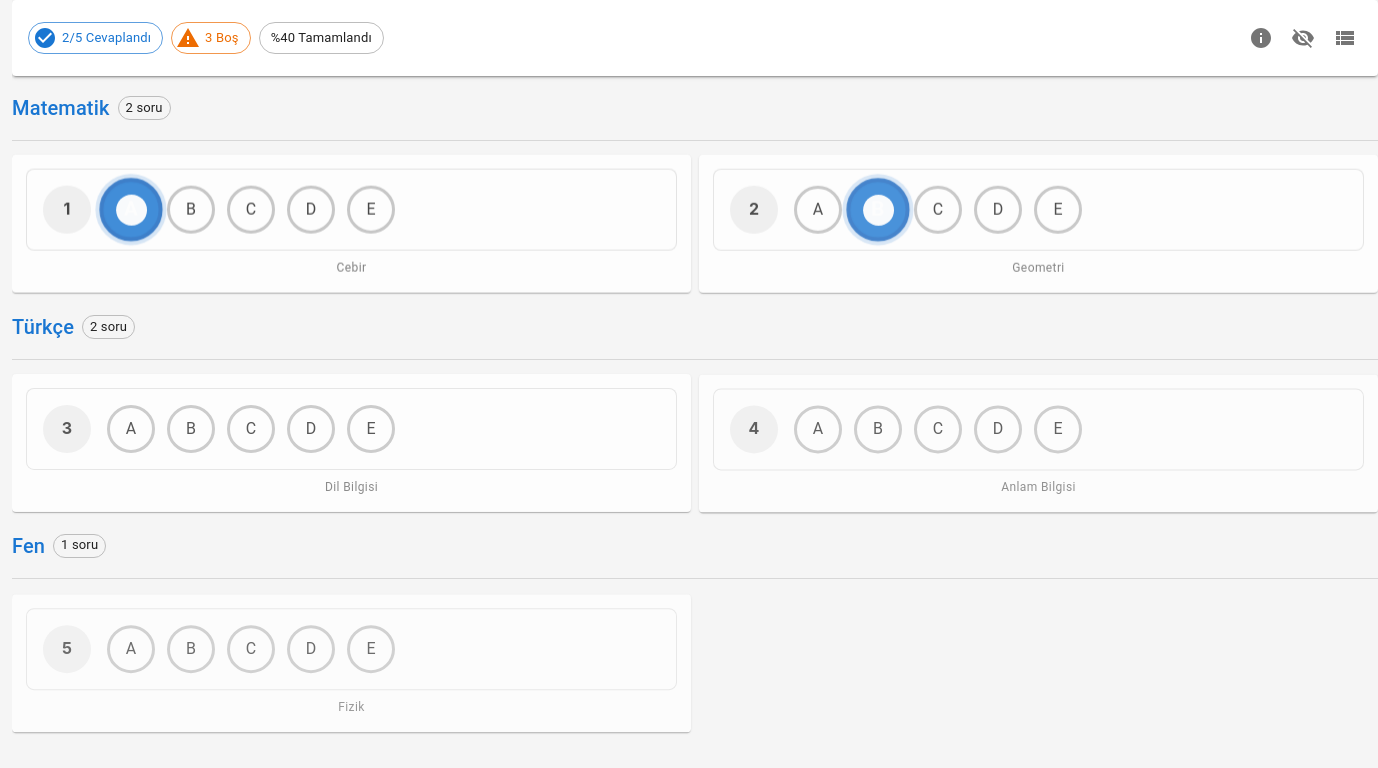
Scenario: BubbleSheetPanel › Görünüm Modları › liste görünümüne geçiş yapar
Click the button with test id "ViewListIcon". click: [1345, 38]
box: [1328,16,1362,60]
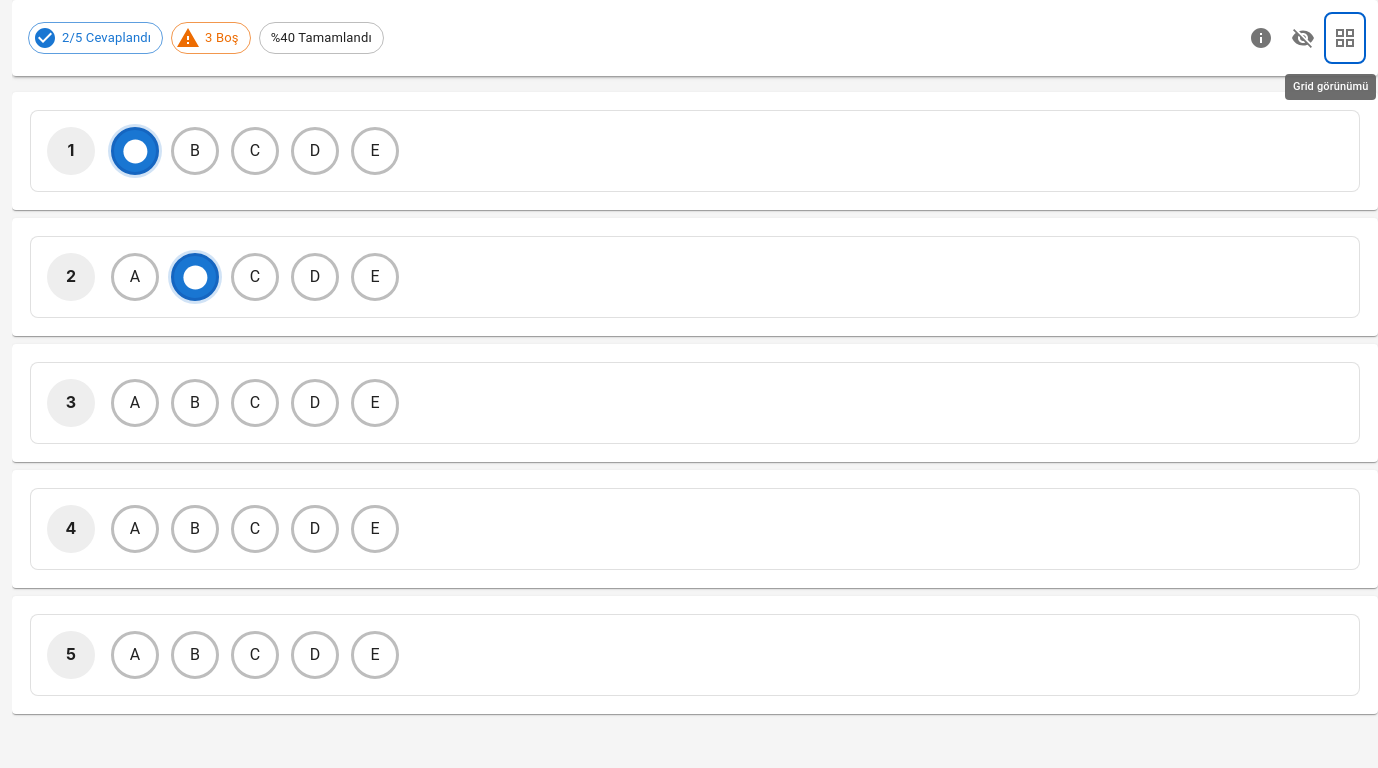
Result: the icon with test id "GridViewIcon" is shown at [1333,26,1357,50]
